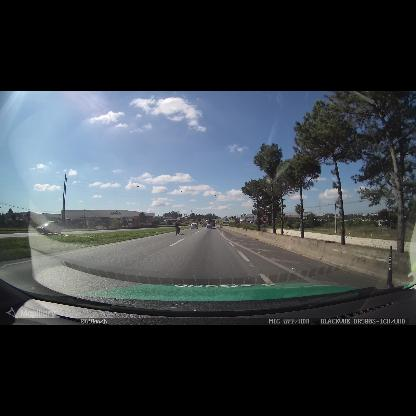R-6c: (260, 214, 269, 224)
